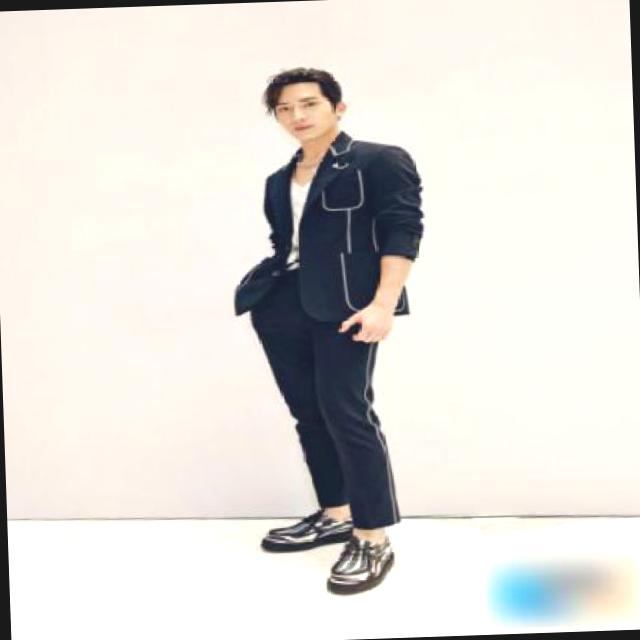Person: (210, 46, 455, 604)
